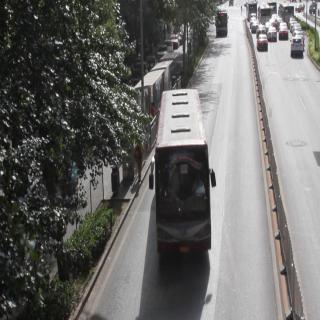BigCar: (146, 85, 227, 247), (212, 5, 230, 42), (279, 1, 299, 24), (244, 0, 259, 23), (257, 4, 272, 27)
Car: (288, 35, 307, 59), (256, 33, 271, 56), (266, 26, 276, 44), (279, 23, 288, 40)
